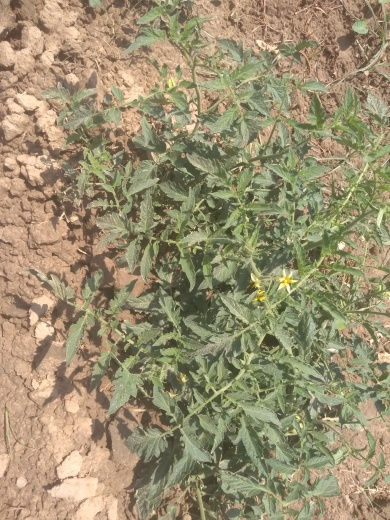tomato flower: (271, 262, 302, 298)
tomato plant: (87, 114, 357, 498)
